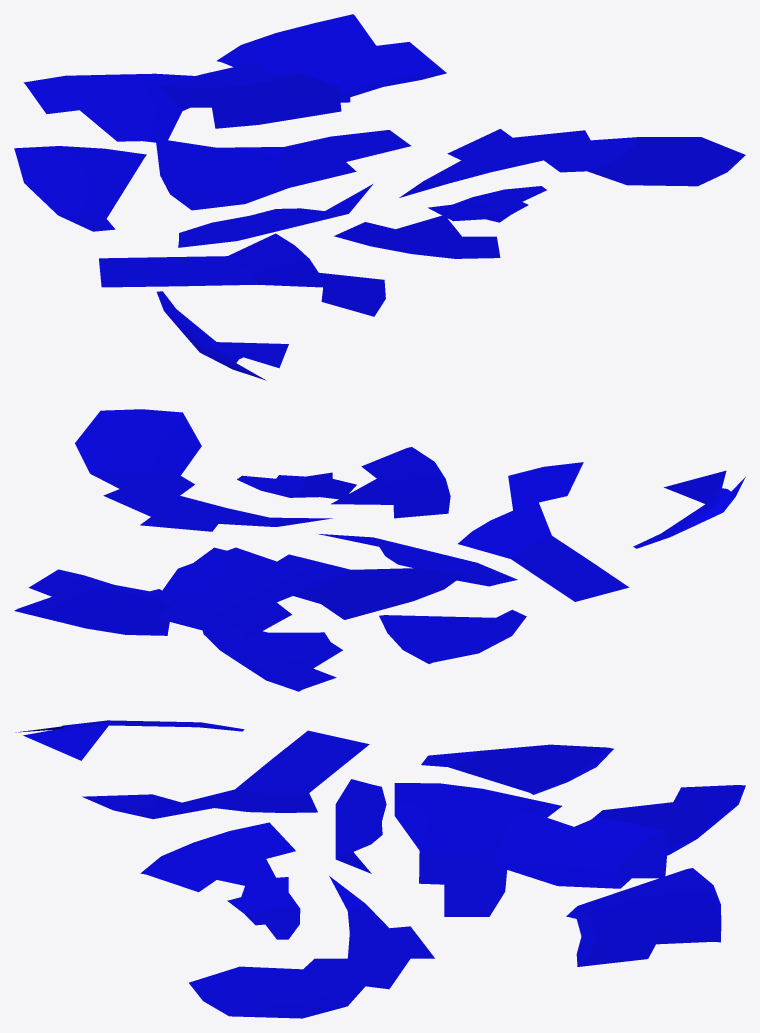
File: BrokenGlass.fbx
3 views of the same model, one above another, from view 1: azimuth 30°, elevation 25°; view 2: azimuth 150°, elevation 25°; view 3: azimuth 270°, elevation 25° (orthographic). The views are drawn at different scales.
Parts seen in each view (by area): view 1: BrokenGlass; view 2: BrokenGlass; view 3: BrokenGlass.
Part boxes in pixels (left/top/right/bottom): BrokenGlass: left=14, top=14, right=745, bottom=380; BrokenGlass: left=14, top=409, right=745, bottom=691; BrokenGlass: left=15, top=720, right=745, bottom=1018.
Bounding box in the file's own units: 35.16 × 1.59 × 36.27.
